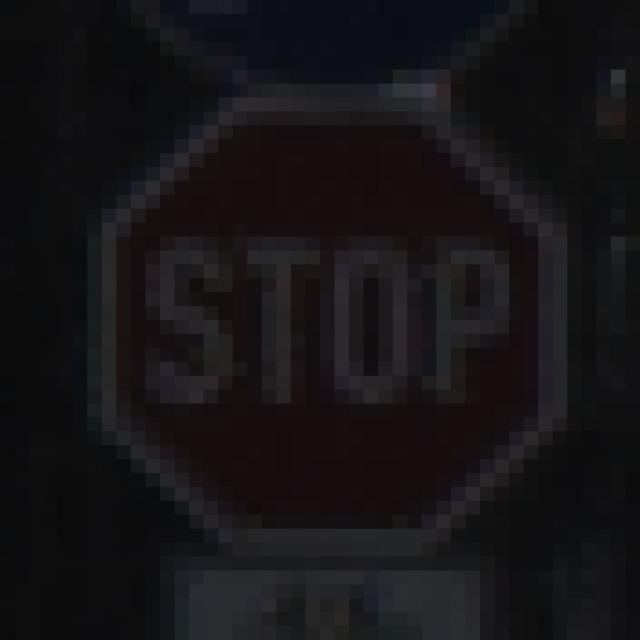STOP: (74, 71, 568, 572)
